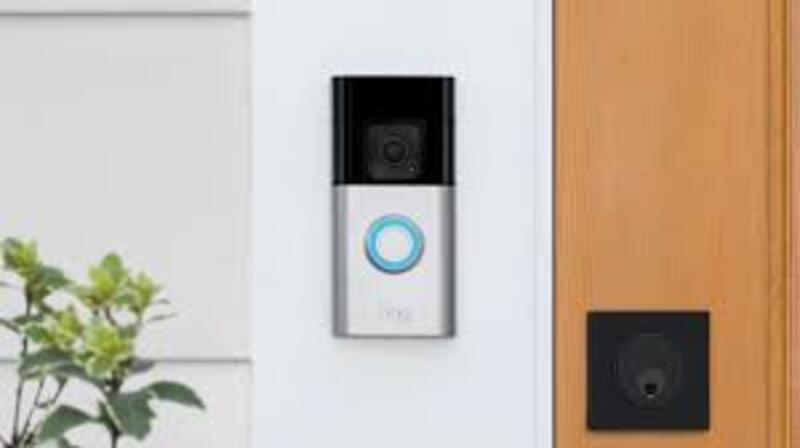doorbell: (323, 68, 461, 345)
